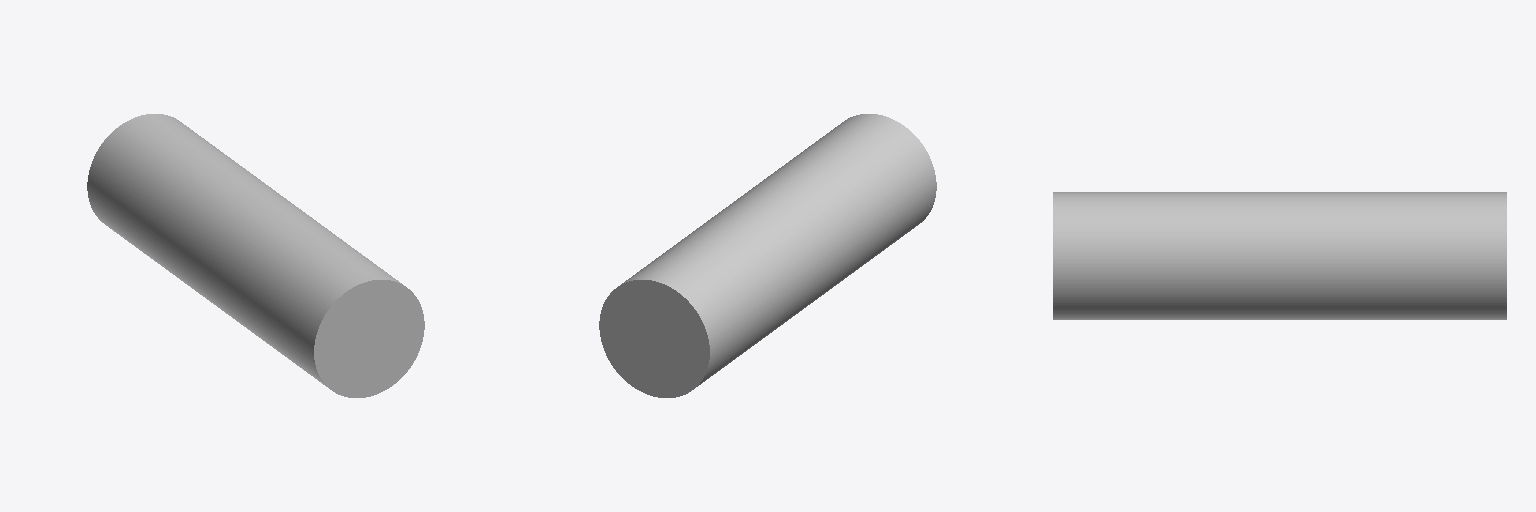
The model's file is Finger Unified Assembly - Part 1 (6).obj.
The picture shows the model from 3 angles: view 1: azimuth 30°, elevation 25°; view 2: azimuth 150°, elevation 25°; view 3: azimuth 270°, elevation 25°; orthographic projection.
Visible parts, largest first — view 1: mesh1, mesh0; view 2: mesh1, mesh2; view 3: mesh1.
Boxes of the visible parts, <box> form: mesh1: <box>87,114,402,386</box>; mesh0: <box>314,280,424,397</box>; mesh1: <box>621,114,936,386</box>; mesh2: <box>599,280,709,397</box>; mesh1: <box>1053,192,1506,319</box>.
Size of the model in its own units: 0.006 by 0.006 by 0.0213.